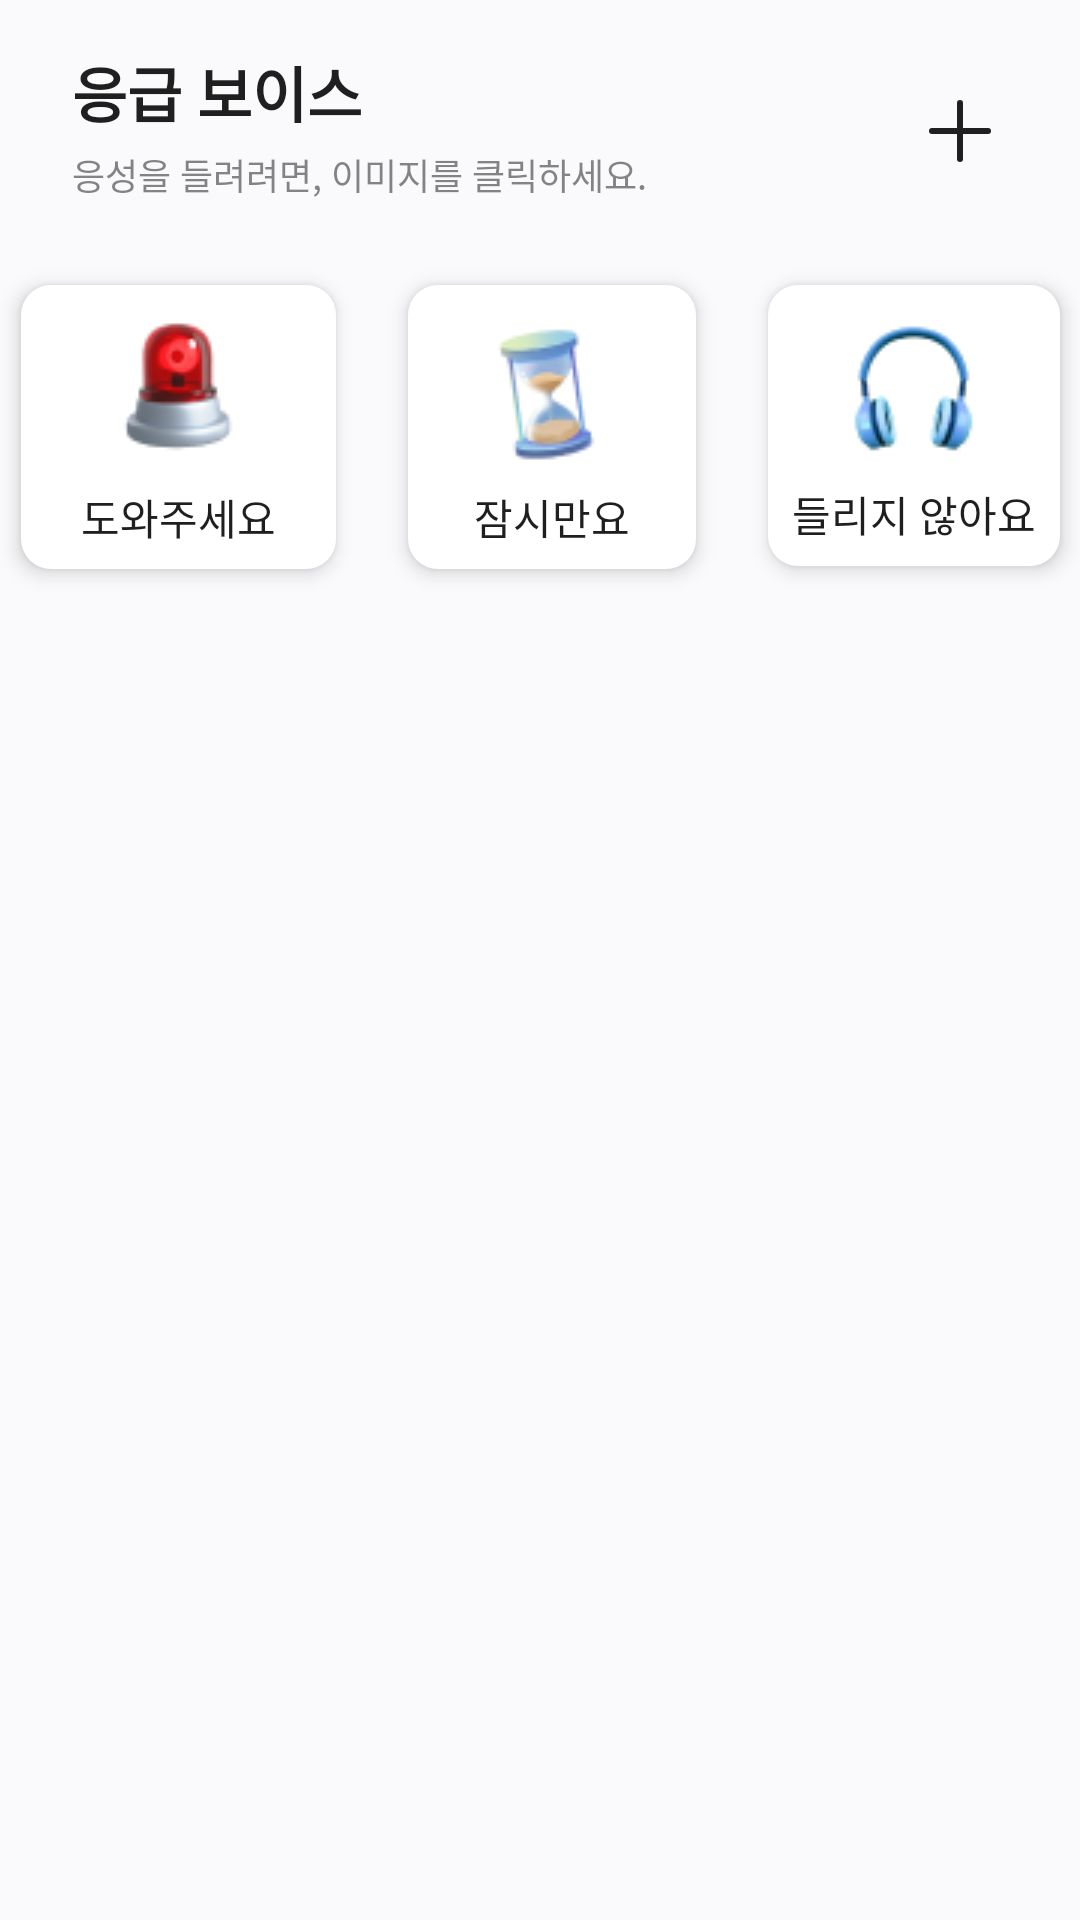

Icons on this 1080px×1920px Android screen, each with its box as (left=x1, top=y1, right=x2, bottom=y2):
add: (left=929, top=100, right=991, bottom=162)
sound hear: (left=854, top=326, right=973, bottom=451)
sound help: (left=126, top=323, right=230, bottom=449)
